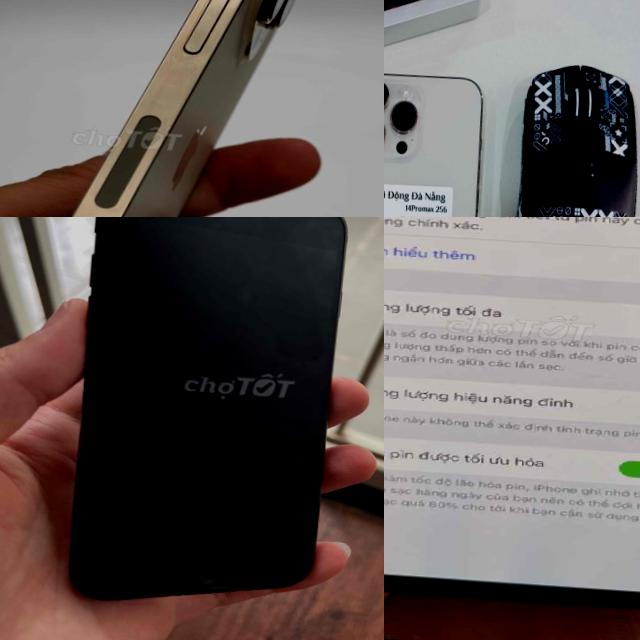scratch: (178, 548, 228, 589)
